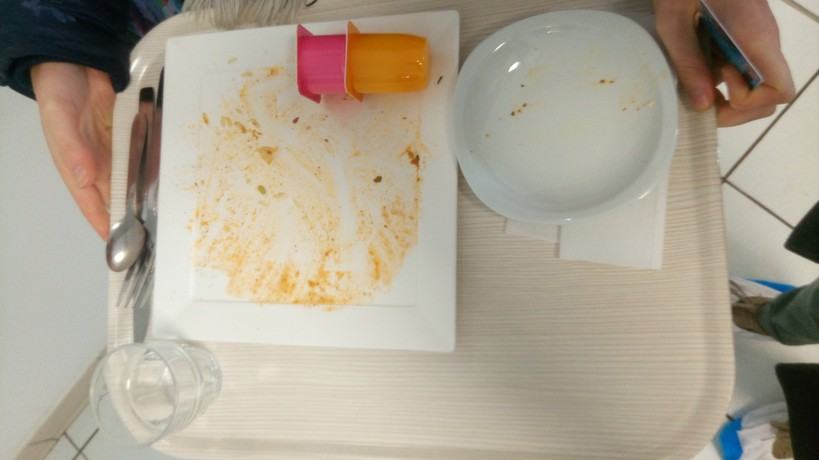cup: (58, 334, 242, 447)
cutlery: (102, 62, 169, 354)
trash: (281, 30, 433, 97)
